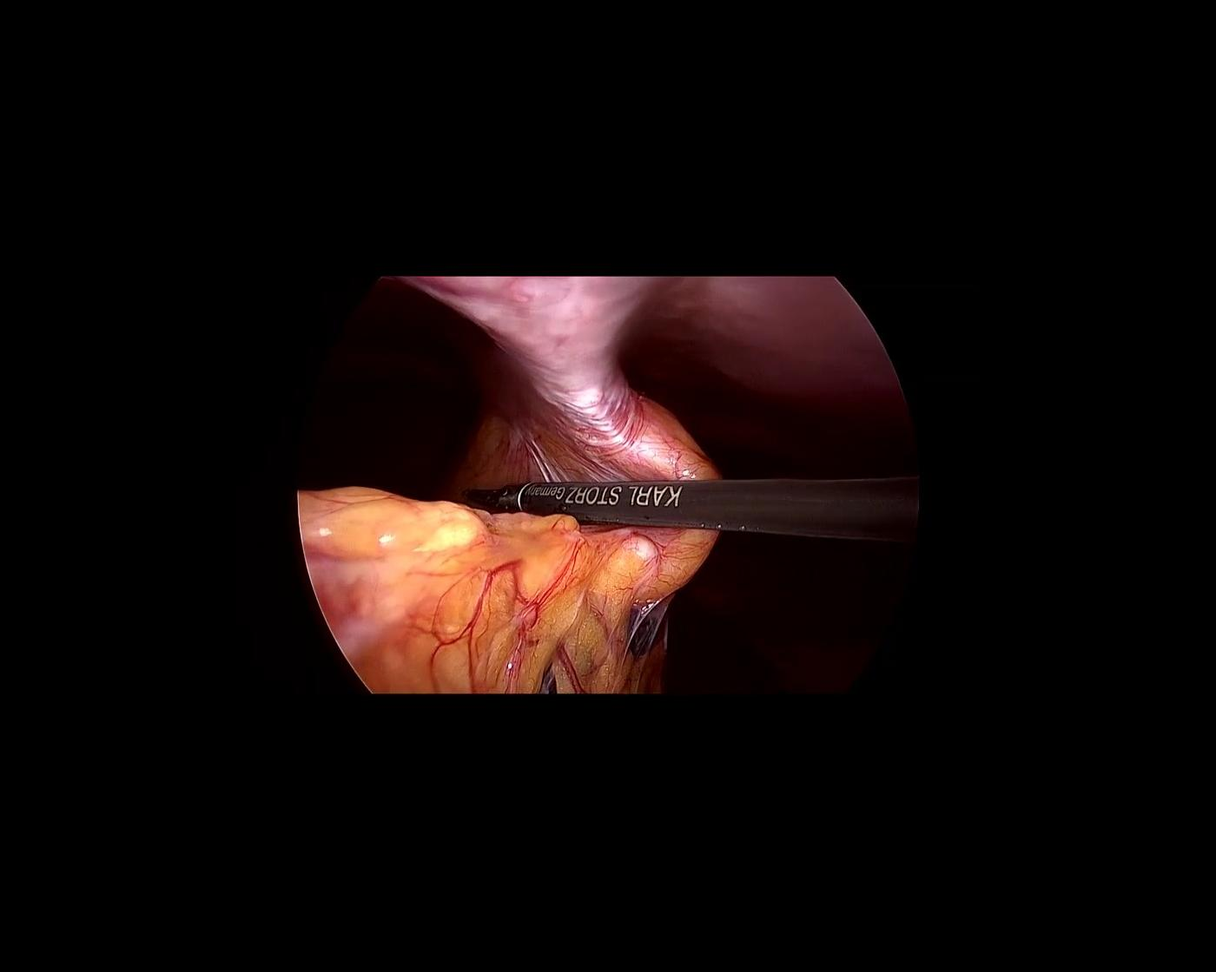Forceps: (453, 480, 918, 536)
